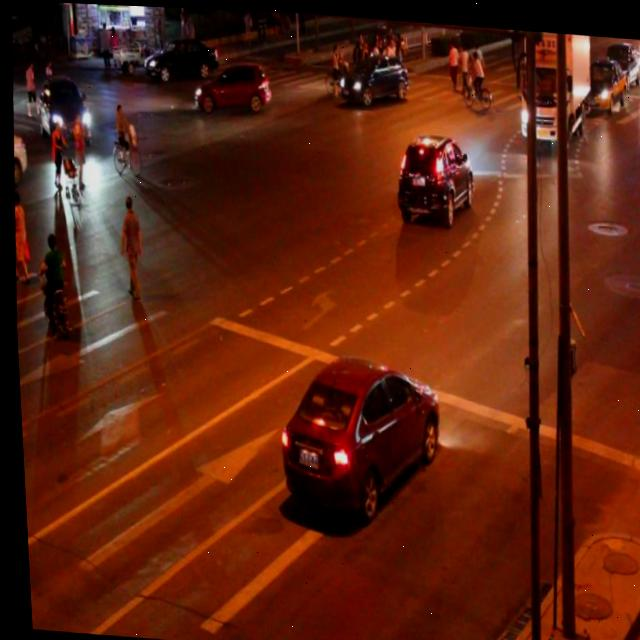bus: (513, 25, 593, 143)
car: (268, 346, 438, 513), (394, 127, 472, 219), (189, 56, 270, 116), (335, 46, 407, 105), (34, 75, 92, 146), (143, 30, 218, 80), (10, 124, 27, 192)
